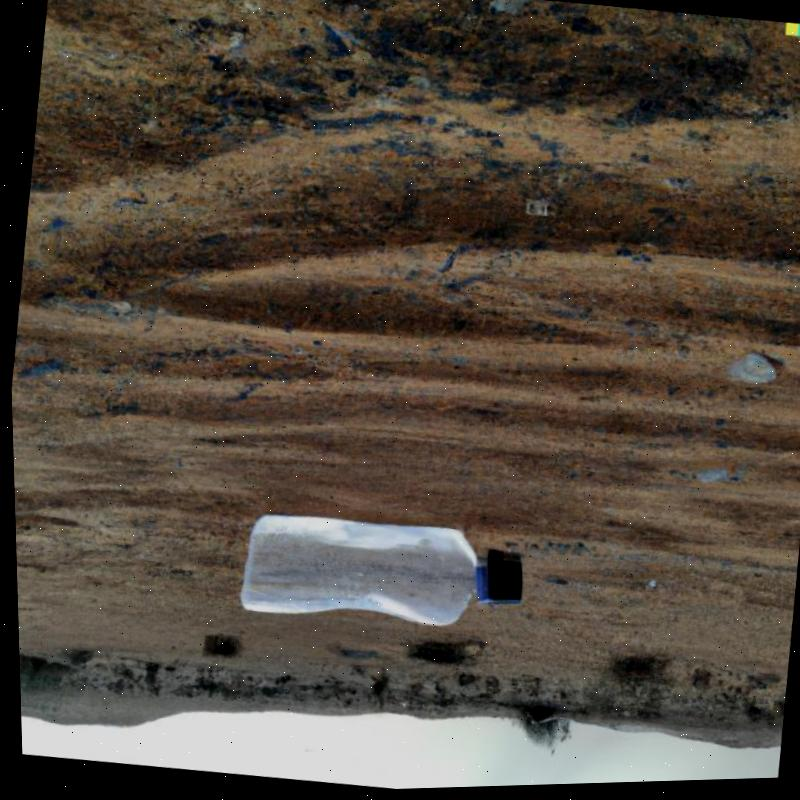botella: (229, 501, 529, 650)
